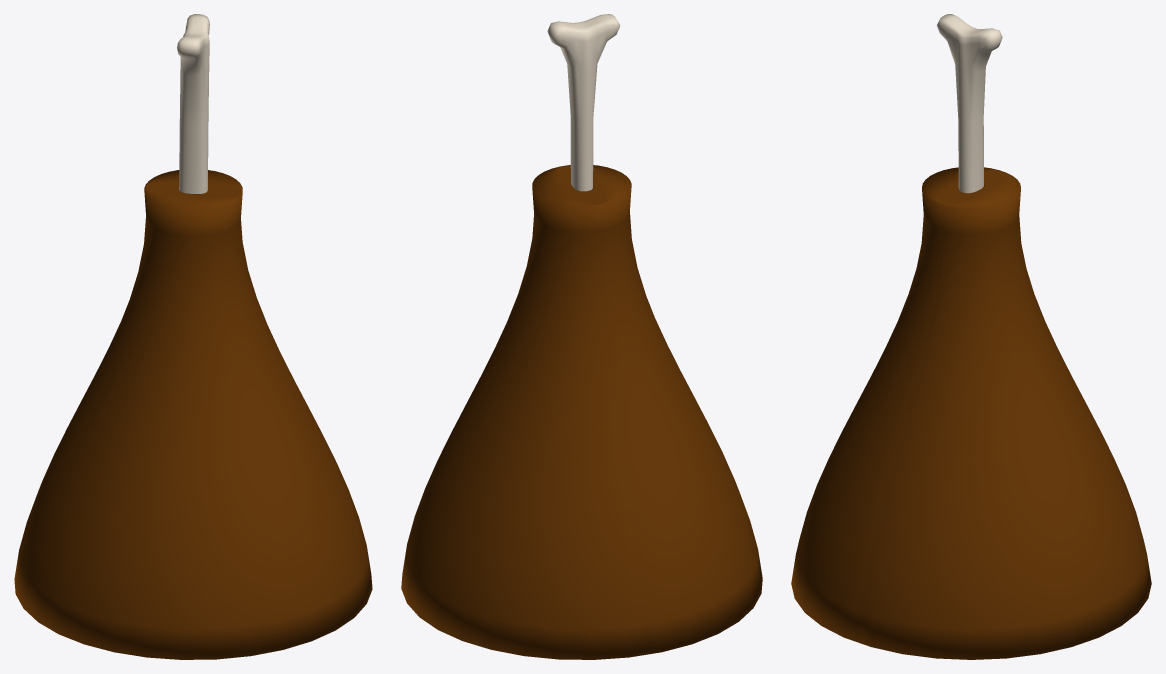
Rendered from Jamon 1.fbx.
3 renders of one model, left to right at view 1: azimuth 30°, elevation 25°; view 2: azimuth 150°, elevation 25°; view 3: azimuth 270°, elevation 25°, orthographic.
Parts seen in each view (by area): view 1: Trozo de carne; view 2: Trozo de carne; view 3: Trozo de carne.
Boxes of the visible parts, x1,y1,x2,y2 form: Trozo de carne: (14,14,372,659); Trozo de carne: (401,14,762,659); Trozo de carne: (791,14,1151,659).
Bounding box in the file's own units: 79.64 × 137 × 79.64.
